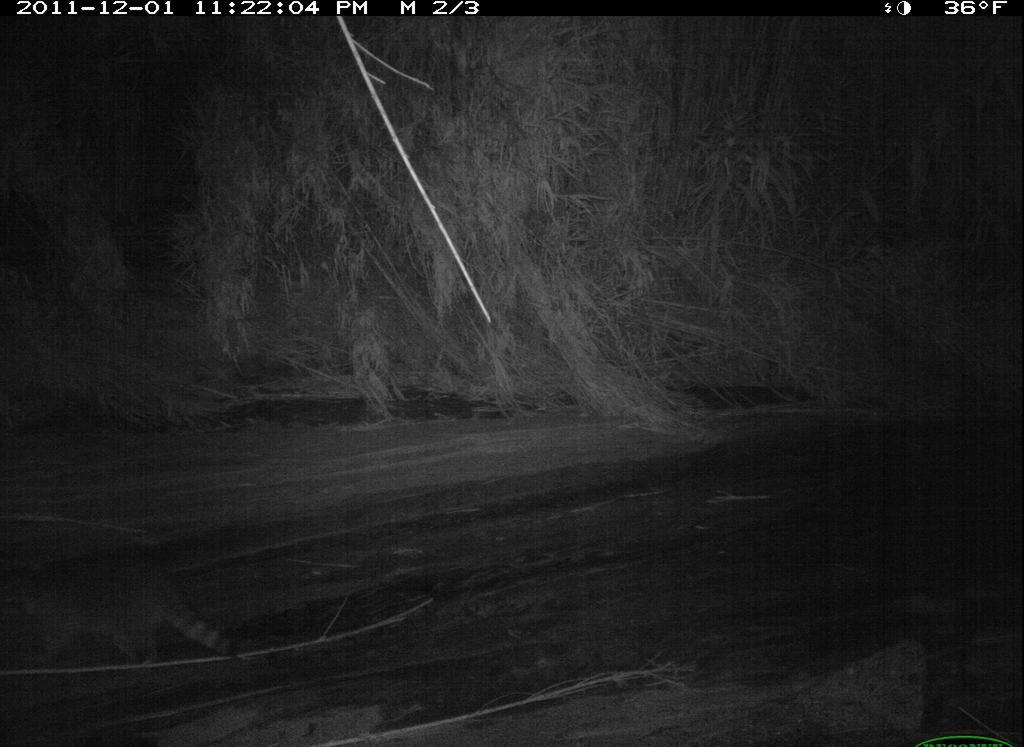raccoon: (7, 536, 255, 683)
